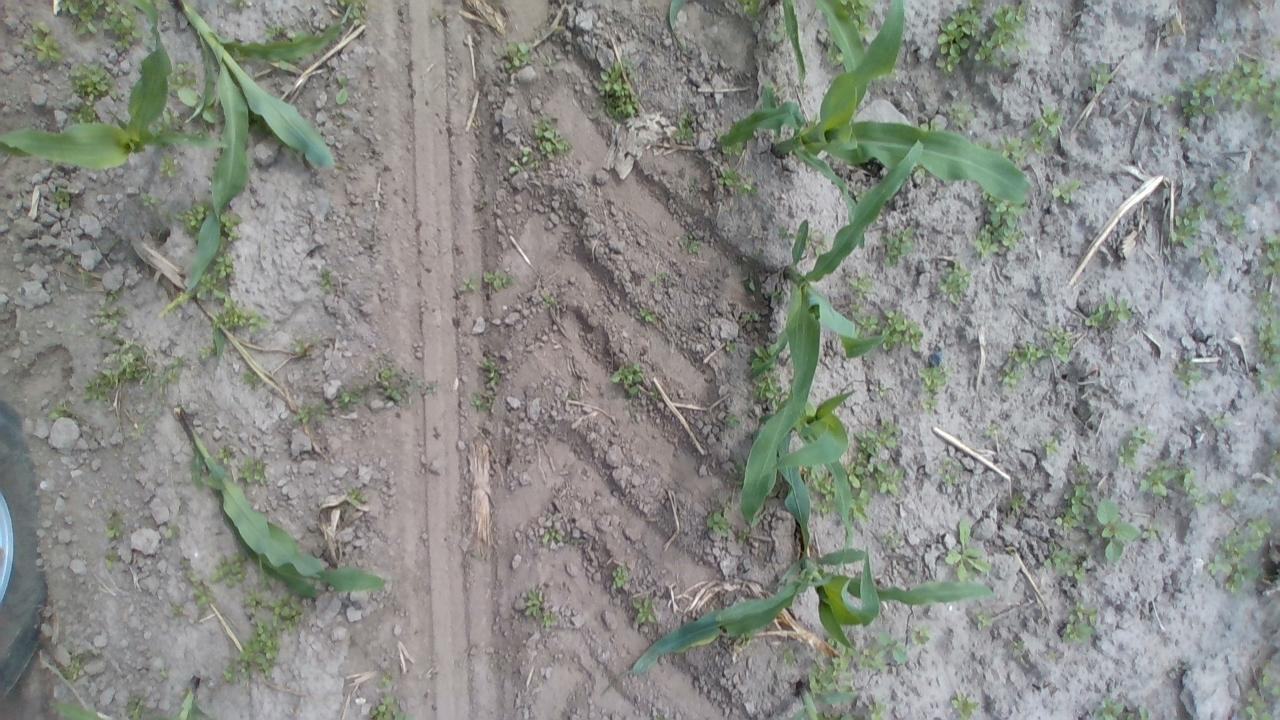Maize: (740, 139, 926, 547), (720, 0, 1032, 214), (158, 1, 352, 315), (625, 546, 989, 696), (176, 410, 387, 594), (0, 3, 230, 170), (752, 384, 858, 587), (53, 676, 209, 718), (158, 284, 232, 371), (818, 0, 868, 76), (788, 680, 861, 720), (779, 1, 808, 86), (667, 0, 687, 31)
Weeds: (84, 356, 158, 404), (87, 285, 140, 352), (935, 8, 980, 76), (1094, 497, 1138, 563), (852, 423, 896, 485), (1220, 58, 1270, 110), (946, 518, 987, 578), (236, 626, 278, 682), (993, 3, 1036, 56), (368, 359, 411, 411), (1218, 517, 1270, 556), (600, 63, 636, 118), (178, 86, 224, 126), (1176, 464, 1211, 516), (68, 63, 112, 103), (1244, 667, 1274, 720), (936, 259, 971, 304), (1030, 106, 1064, 152), (882, 311, 920, 352), (103, 2, 138, 43), (809, 656, 848, 690), (1192, 243, 1225, 283), (986, 199, 1030, 229), (1060, 482, 1090, 525), (880, 229, 914, 266), (810, 468, 835, 518), (1138, 464, 1177, 496), (1208, 561, 1248, 592), (1118, 424, 1147, 466), (742, 342, 779, 374), (534, 119, 568, 153), (1062, 609, 1096, 643), (1181, 77, 1214, 112), (1172, 205, 1200, 244), (294, 395, 328, 427), (876, 630, 908, 664), (60, 0, 101, 26), (508, 145, 542, 176), (612, 364, 644, 395), (936, 456, 965, 490), (212, 556, 248, 583), (1263, 78, 1280, 134), (1044, 538, 1074, 569), (272, 594, 302, 624), (872, 463, 901, 494), (970, 606, 998, 638), (1257, 311, 1276, 358), (66, 652, 100, 678), (1095, 701, 1144, 719), (849, 274, 871, 314), (218, 303, 256, 326), (1248, 285, 1278, 314), (338, 0, 366, 31), (32, 33, 61, 62), (179, 198, 209, 226), (677, 231, 708, 258), (974, 228, 998, 262), (1052, 177, 1084, 202), (176, 549, 200, 582), (850, 490, 874, 523), (124, 691, 151, 720), (371, 699, 408, 720), (1037, 431, 1061, 463), (1012, 342, 1046, 364), (168, 63, 200, 86), (70, 102, 98, 128), (1052, 329, 1074, 362), (314, 266, 338, 296), (919, 366, 946, 392), (222, 210, 245, 240), (158, 155, 184, 181), (634, 597, 658, 625), (809, 226, 832, 255), (480, 358, 502, 388), (758, 379, 784, 404), (1002, 229, 1028, 253), (1263, 234, 1276, 282), (160, 523, 187, 546), (1008, 488, 1030, 516), (238, 459, 266, 481), (1212, 175, 1232, 205), (162, 358, 186, 383), (952, 693, 976, 718), (53, 184, 76, 210), (334, 388, 362, 409), (47, 401, 71, 425), (336, 71, 352, 107), (192, 586, 215, 611), (765, 281, 787, 307), (506, 43, 528, 69), (1176, 359, 1198, 385), (416, 378, 444, 398), (289, 336, 312, 360), (847, 0, 870, 24), (484, 270, 509, 292), (742, 0, 767, 22), (344, 483, 366, 507), (776, 224, 798, 248), (1108, 298, 1132, 320), (910, 627, 934, 649), (240, 594, 264, 616), (1090, 66, 1110, 92), (1205, 410, 1232, 429), (708, 511, 731, 533), (916, 395, 940, 416), (1086, 306, 1108, 328), (648, 272, 678, 288), (740, 276, 760, 300), (854, 20, 878, 40), (262, 23, 290, 40), (103, 550, 124, 572), (718, 166, 738, 189), (526, 590, 542, 618), (882, 530, 902, 552), (1006, 637, 1026, 659), (1002, 136, 1024, 156), (540, 524, 564, 542), (768, 22, 786, 46), (679, 115, 696, 140), (949, 104, 970, 124), (200, 273, 221, 293), (1000, 366, 1019, 388), (825, 46, 844, 68), (721, 144, 747, 160), (170, 598, 188, 621), (720, 338, 740, 358), (1158, 92, 1178, 112), (215, 255, 232, 278), (218, 442, 235, 465), (220, 0, 250, 13), (639, 305, 657, 326), (1228, 212, 1246, 233), (979, 37, 996, 59), (1142, 521, 1162, 539), (1259, 370, 1277, 390), (220, 664, 236, 686), (138, 191, 160, 207), (1046, 648, 1069, 663), (375, 673, 394, 691), (983, 422, 1002, 440), (540, 292, 558, 311), (1072, 460, 1090, 478), (239, 369, 258, 386), (475, 395, 494, 412), (738, 527, 754, 547), (875, 380, 891, 400), (612, 567, 628, 587), (736, 178, 756, 194), (740, 311, 761, 326), (1178, 120, 1192, 142), (860, 314, 879, 330), (1267, 447, 1280, 470), (644, 384, 661, 401), (544, 56, 560, 74), (1214, 29, 1230, 47), (540, 613, 558, 628), (920, 120, 940, 133), (1068, 563, 1084, 579), (196, 346, 214, 360), (106, 524, 124, 538), (1269, 34, 1280, 56), (1220, 490, 1235, 506), (461, 276, 476, 292), (155, 666, 172, 680), (79, 272, 96, 286), (566, 535, 580, 551), (725, 415, 740, 429), (61, 253, 77, 265), (974, 138, 991, 148), (106, 510, 124, 519), (998, 57, 1011, 69), (969, 0, 986, 9)
